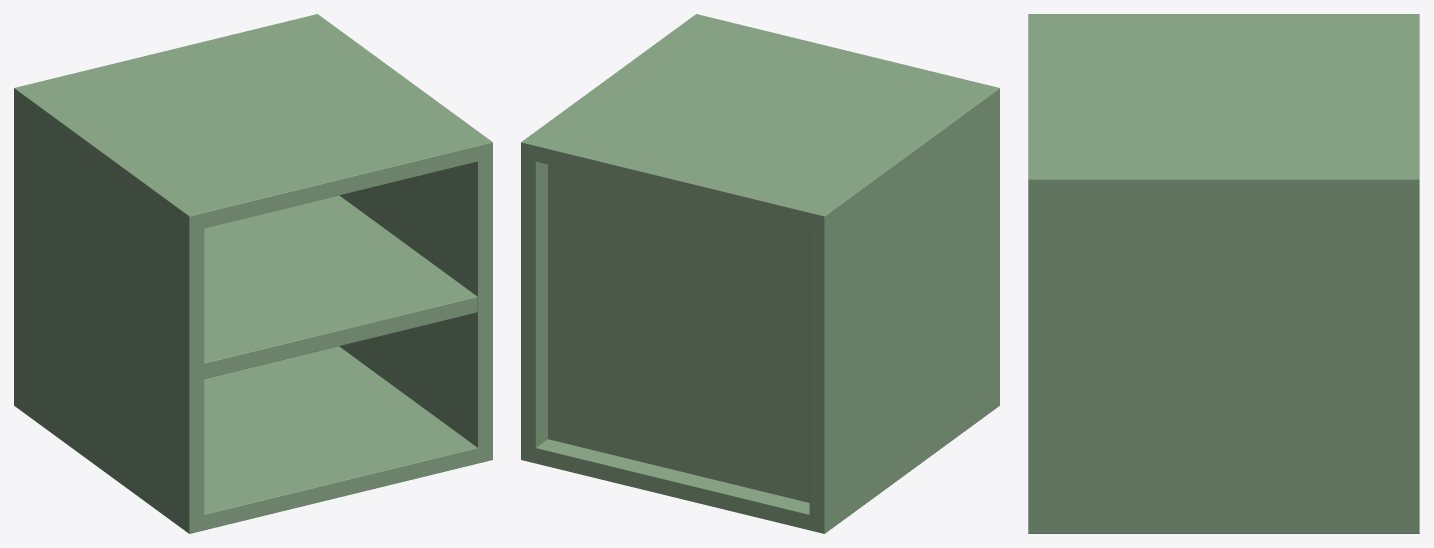
Rendered from MOD-1X1-S-B-SA.glb.
The picture shows the model from 3 angles, left to right: view 1: azimuth 30°, elevation 25°; view 2: azimuth 150°, elevation 25°; view 3: azimuth 270°, elevation 25°; orthographic projection. The views are drawn at different scales.
Bounding box in the file's own units: 360 × 360 × 360.
